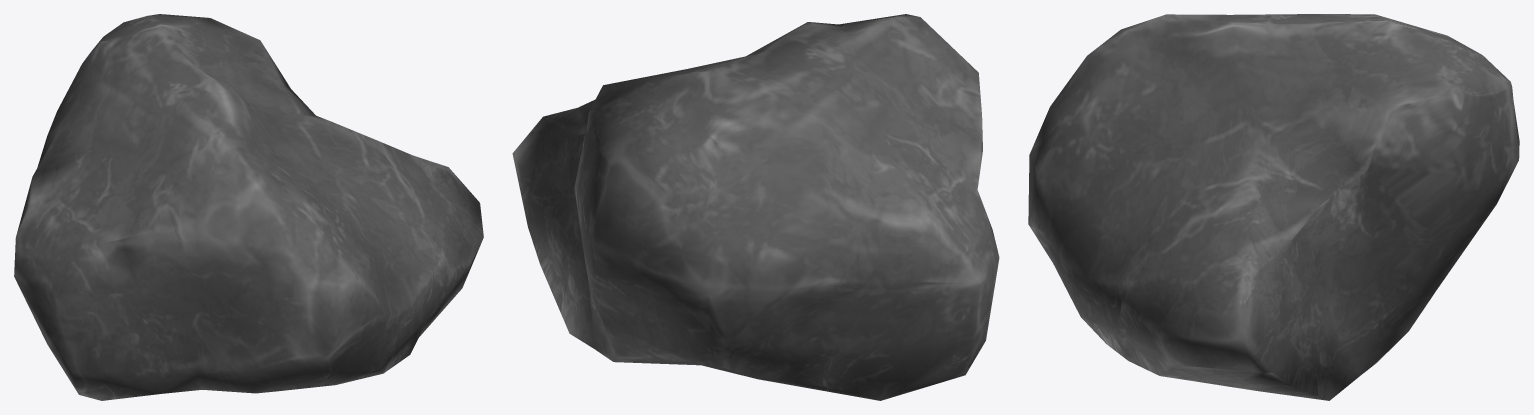
Rendered from ROK0110039.fbx.
3 views of the same model, side by side, from view 1: azimuth 30°, elevation 25°; view 2: azimuth 150°, elevation 25°; view 3: azimuth 270°, elevation 25° (orthographic). The views are drawn at different scales.
Parts seen in each view (by area): view 1: smROK0110039; view 2: smROK0110039; view 3: smROK0110039.
Part boxes in pixels (box(x1,y1,x2,y2)): smROK0110039: box(14, 14, 483, 400); smROK0110039: box(512, 14, 999, 400); smROK0110039: box(1028, 14, 1519, 400).
Bounding box in the file's own units: 269 × 173 × 251.
Materials: 1 (1 with a texture image).
